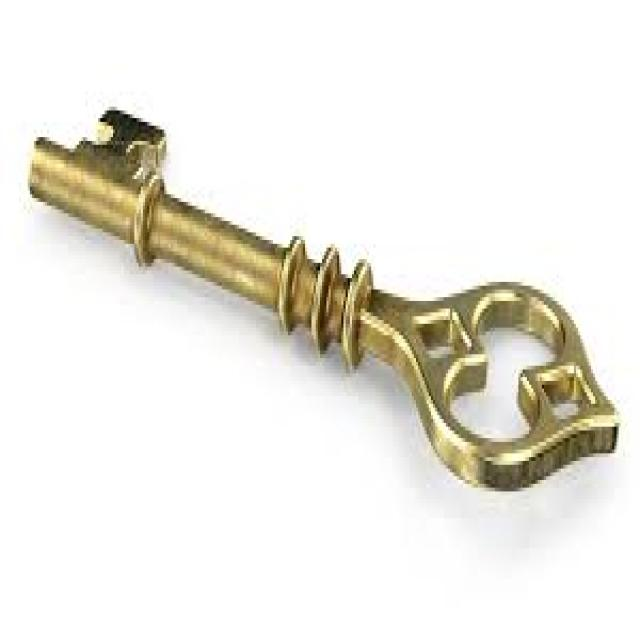key: (16, 29, 625, 562)
